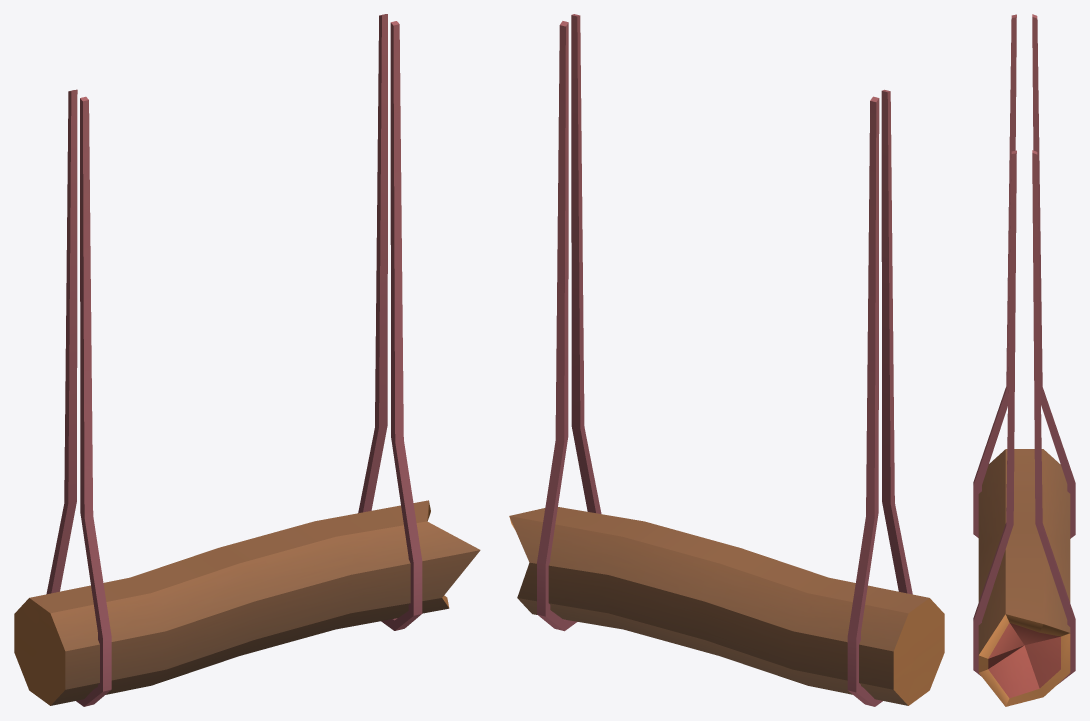
Rendered from Boom.fbx.
3 views of the same model, side by side, from view 1: azimuth 30°, elevation 25°; view 2: azimuth 150°, elevation 25°; view 3: azimuth 270°, elevation 25° (orthographic). The views are drawn at different scales.
Visible parts, largest first — view 1: Boom; view 2: Boom; view 3: Boom.
Boxes of the visible parts, bbox=[...] form: Boom: bbox=[14, 14, 480, 706]; Boom: bbox=[509, 14, 944, 706]; Boom: bbox=[973, 14, 1075, 706].
Size of the model in its own units: 130 by 181 by 30.99.
